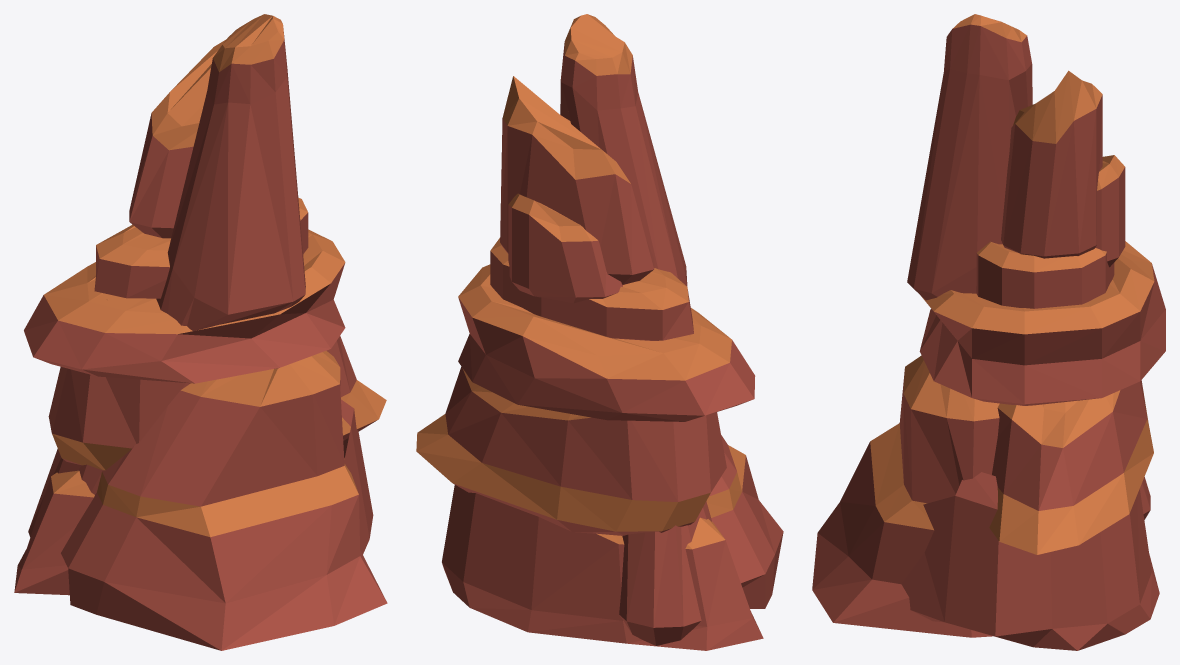
Rendered from Rocks.FBX.
3 views of the same model, side by side, from view 1: azimuth 30°, elevation 25°; view 2: azimuth 150°, elevation 25°; view 3: azimuth 270°, elevation 25° (orthographic). The views are drawn at different scales.
Parts seen in each view (by area): view 1: RockWall_Big, RockWall_Small; view 2: RockWall_Big, RockWall_Small; view 3: RockWall_Big.
Part boxes in pixels (x1,y1,x2,y2): RockWall_Big: [14, 14, 387, 650]; RockWall_Small: [28, 449, 102, 537]; RockWall_Big: [416, 14, 783, 650]; RockWall_Small: [619, 501, 711, 645]; RockWall_Big: [812, 14, 1165, 650].
Bounding box in the file's own units: 6.95 × 10.21 × 5.52.
1 material, 1 textured.
